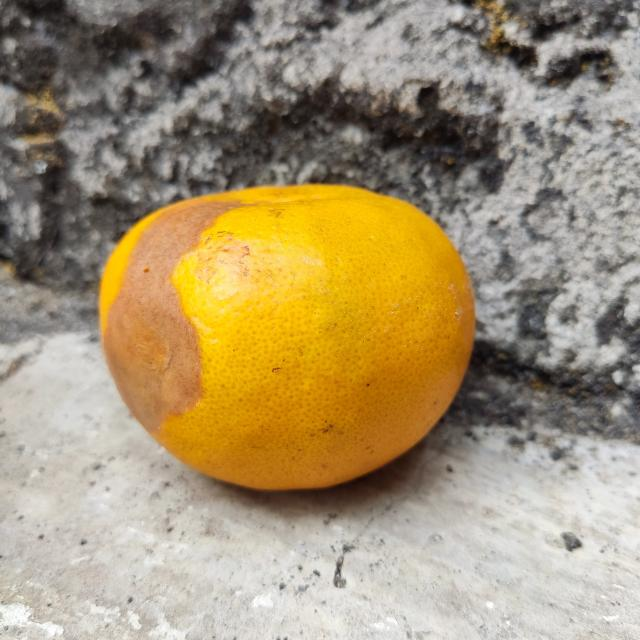orange: (100, 182, 475, 494)
